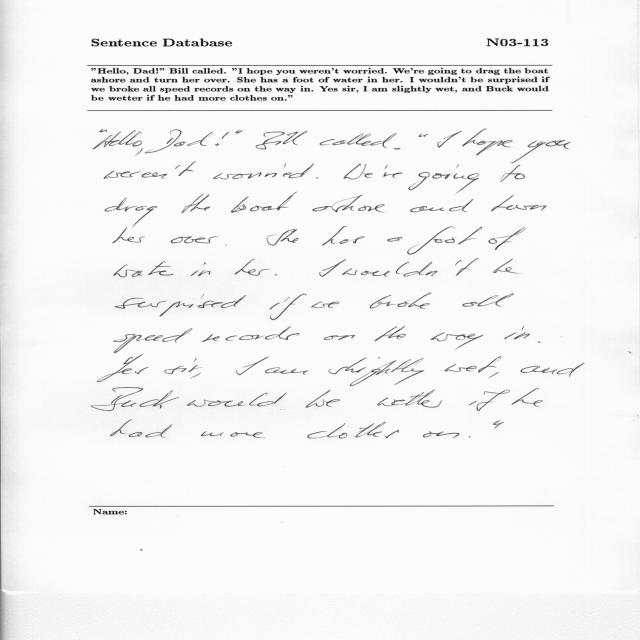word: (115, 294, 246, 317), (329, 357, 425, 386), (342, 259, 478, 277), (91, 387, 179, 411), (407, 227, 482, 255), (409, 165, 479, 194), (114, 328, 192, 353), (213, 163, 314, 180), (187, 393, 287, 410), (145, 130, 213, 154), (105, 197, 158, 227), (104, 162, 196, 179), (202, 326, 299, 342), (307, 422, 399, 438), (98, 355, 149, 383), (231, 192, 297, 213), (511, 140, 571, 163), (462, 129, 513, 155), (312, 195, 385, 212), (377, 390, 443, 408), (320, 133, 397, 148), (111, 420, 172, 438), (370, 293, 431, 309), (445, 356, 502, 373), (114, 261, 173, 277), (270, 294, 306, 320), (492, 195, 547, 212), (93, 130, 142, 149), (521, 363, 585, 377), (431, 332, 483, 349), (469, 390, 510, 411), (410, 199, 474, 212), (322, 227, 365, 246), (489, 228, 526, 250), (462, 293, 514, 307), (305, 390, 340, 408), (264, 131, 308, 145), (236, 357, 269, 375), (165, 358, 202, 374), (512, 388, 543, 407), (235, 259, 270, 275), (182, 194, 211, 213), (267, 229, 299, 246), (113, 227, 145, 243), (319, 259, 346, 277), (375, 327, 406, 342), (344, 164, 373, 180), (215, 130, 243, 146), (201, 431, 265, 438), (437, 131, 462, 148), (500, 165, 525, 182), (493, 259, 519, 274), (256, 136, 282, 149), (504, 327, 530, 340), (171, 237, 217, 244), (265, 368, 309, 375), (191, 262, 211, 276), (383, 165, 403, 178), (423, 431, 459, 438), (311, 301, 339, 308), (324, 335, 355, 340), (493, 420, 504, 429), (387, 237, 402, 242), (488, 373, 499, 379), (135, 149, 143, 156), (190, 374, 200, 379), (419, 133, 429, 137), (100, 129, 107, 132), (395, 148, 401, 149), (316, 177, 318, 179), (538, 341, 540, 343), (469, 436, 471, 438), (225, 245, 227, 246), (275, 274, 277, 275)
